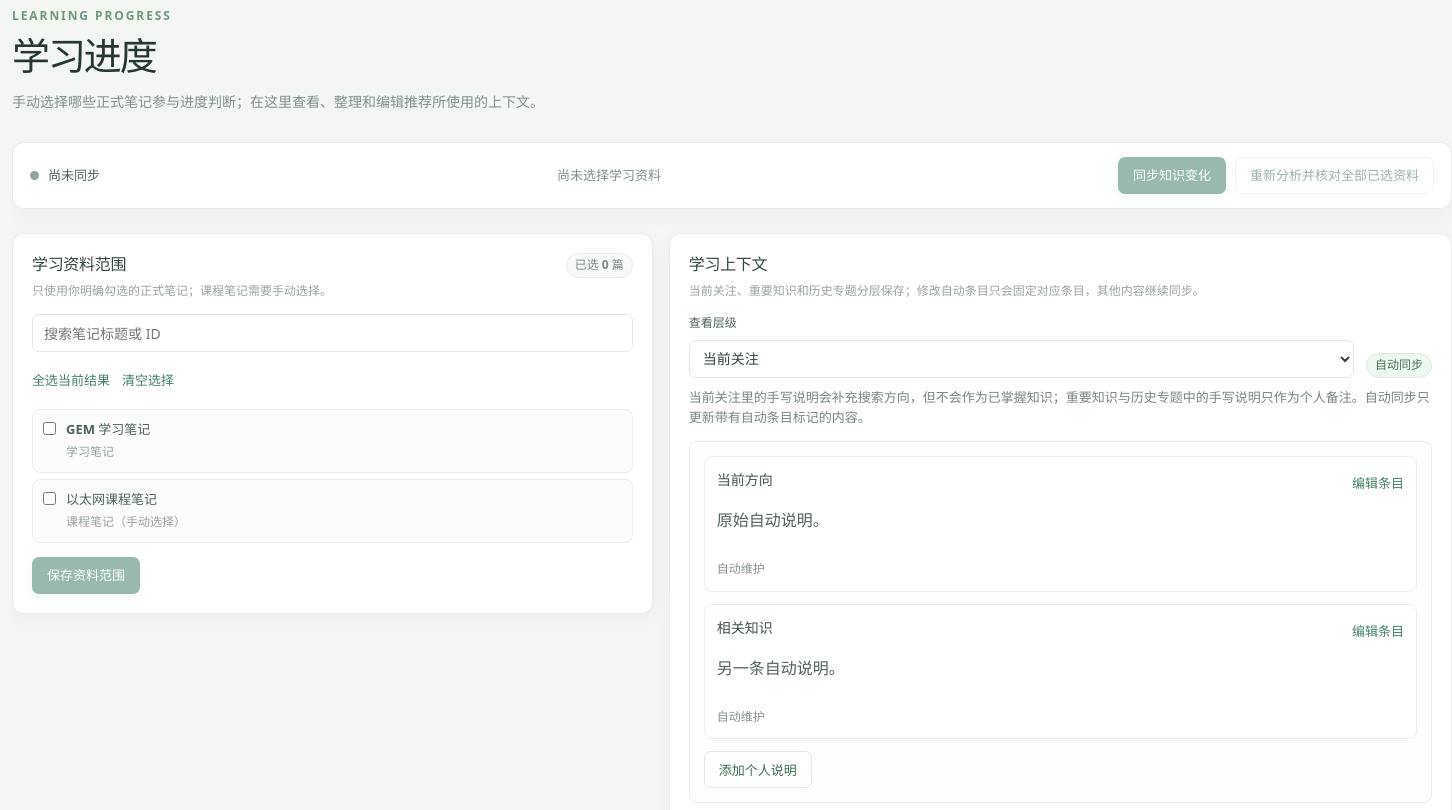
Test: 学习进度上下文 page › lets the user explicitly select notes and saves the scope without an AI request
expect the checkbox labelled "以太网课程笔记 课程笔记（手动选择）" is not checked: met, box [43,492,56,505]
Click the checkbox labelled "GEM 学习笔记 学习笔记" at (50, 428), box [43,422,56,434]
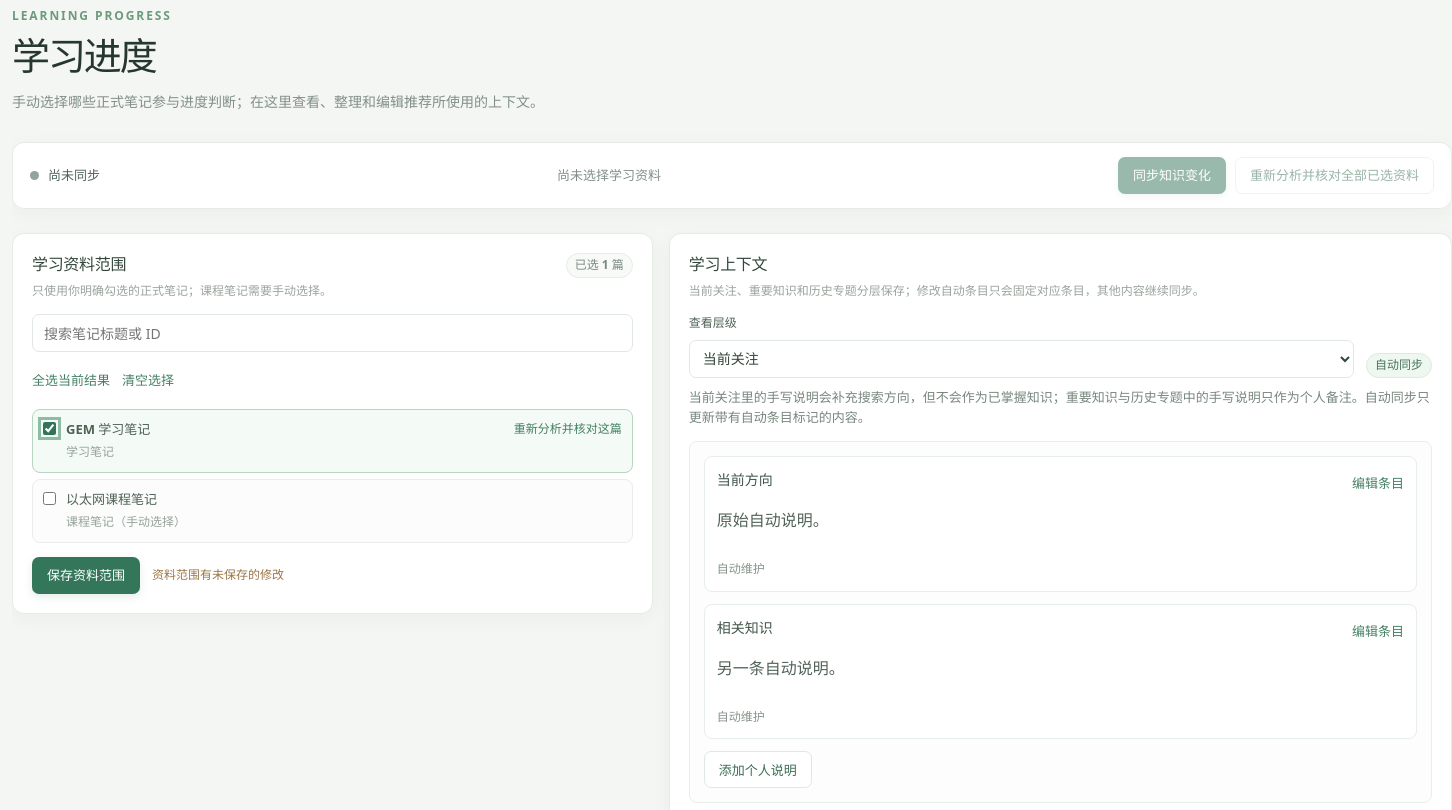
Click the button "保存资料范围" at (86, 575), box [32,557,140,594]
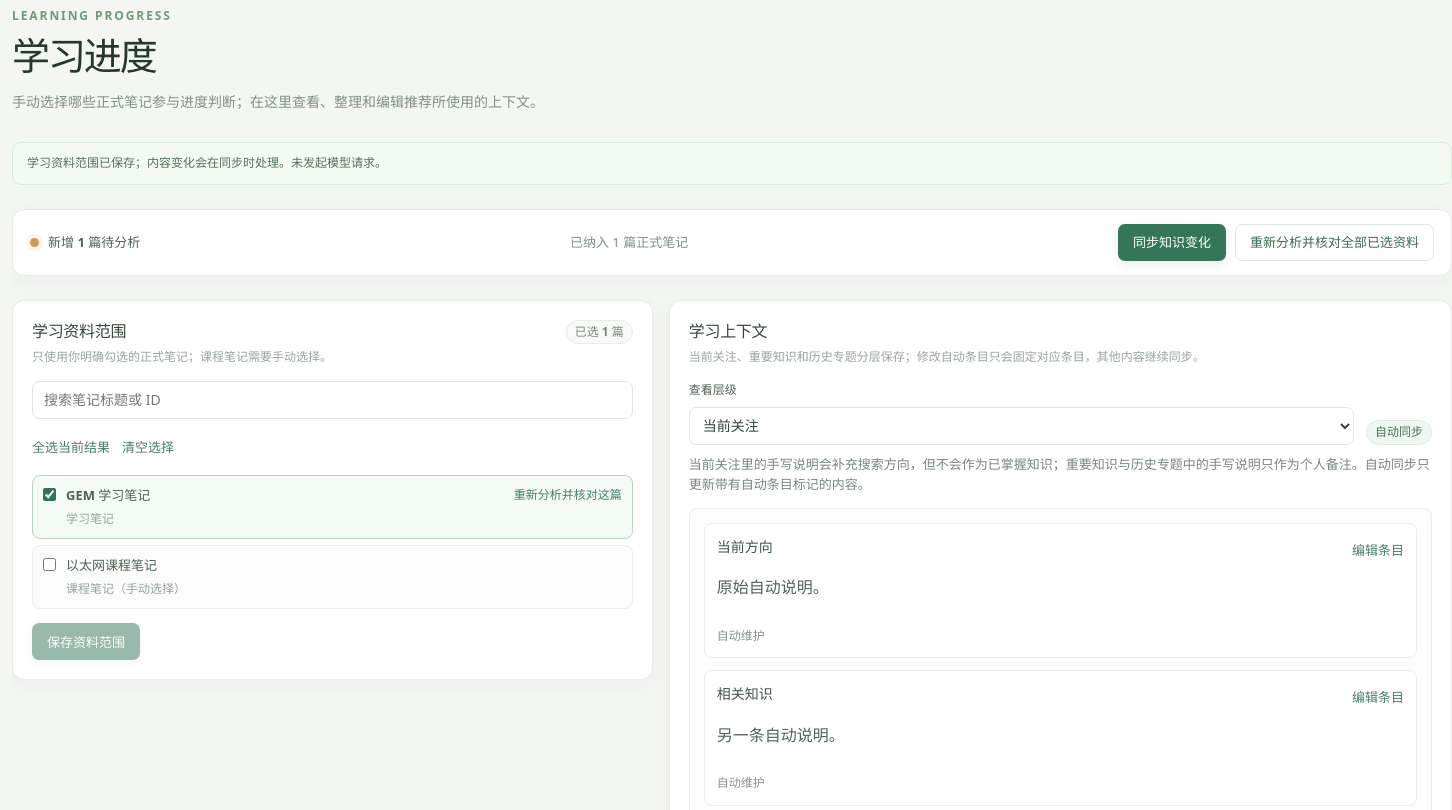
expect the text "新增 1 篇待分析" is shown: met, box [48,232,140,252]
